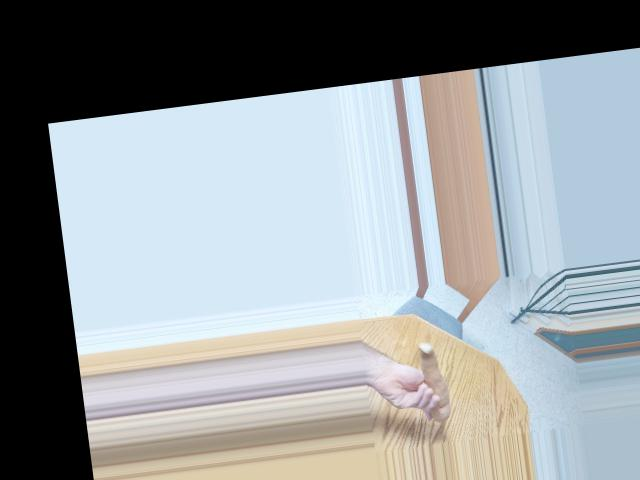sweet_potato: (410, 342, 455, 425)
